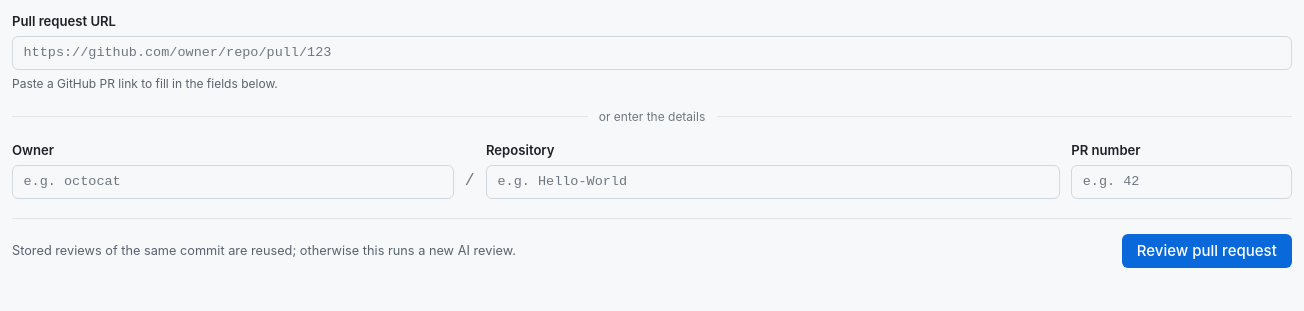
it: ReviewForm › shows errors for required fields and does not submit
The image size is (1304, 311).
Click the button "Review pull request" at (1207, 251), box [1122,234,1292,268]
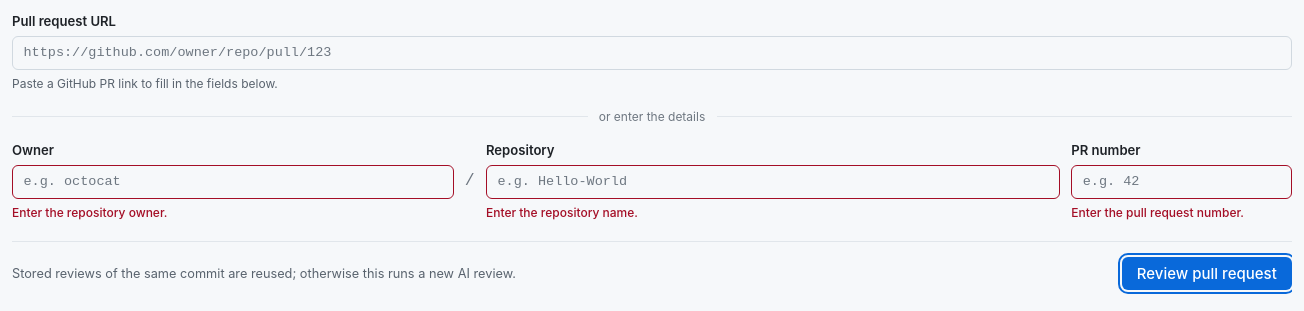
Now the text "Enter the repository owner." is shown, box [12,205,167,220]
Now the text "Enter the repository name." is shown, box [486,205,638,220]
Now the text "Enter the pull request number." is shown, box [1071,205,1244,220]
